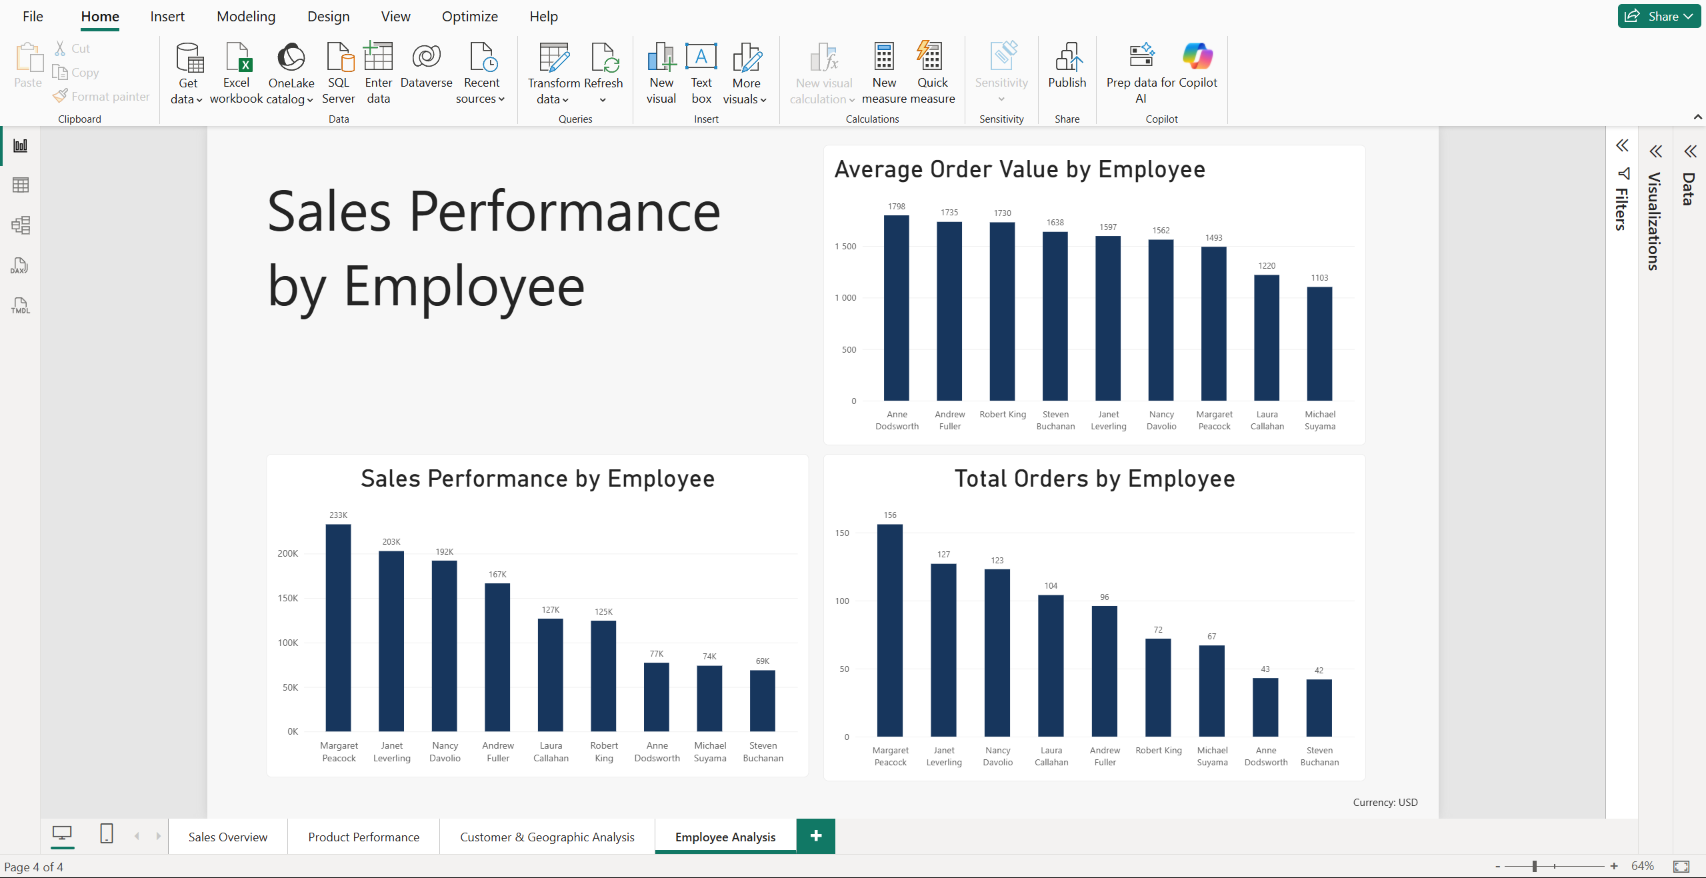

This screenshot's page, from the dashboard's own definition file:
{"tool":"powerbi","page":{"name":"Employee Analysis","canvas":[1920,1080],"ordinal":3},"visuals":[{"type":"clusteredColumnChart","title":"Sales Performance by Employee","fields":{"Category":["public employees.employeeName"],"Y":["public order_details.Total Revenue"]},"box":[92,512,846,504],"z":0},{"type":"textbox","box":[92,68,728,376],"z":1000},{"type":"clusteredColumnChart","title":"Total Orders by Employee","fields":{"Category":["public employees.employeeName"],"Y":["public orders.Total Orders"]},"box":[960,512,846,510],"z":2000},{"type":"clusteredColumnChart","title":"Average Order Value by Employee","fields":{"Category":["public employees.employeeName"],"Y":["public orders.Average Order Value"]},"box":[960,30,846,468],"z":3000},{"type":"textbox","box":[1786.8,1042.9,133.8,36.5],"z":4000}]}

Visuals, with their boxes on the page's 1920x1080 design canvas (x1, y1, x2, y2). These are canvas units, not pixel positions in the 1706x878 screenshot, which may show the page scaled, cropped or inside an application window:
"Sales Performance by Employee" clusteredColumnChart: Rect(92, 512, 938, 1016)
textbox: Rect(92, 68, 820, 444)
"Total Orders by Employee" clusteredColumnChart: Rect(960, 512, 1806, 1022)
"Average Order Value by Employee" clusteredColumnChart: Rect(960, 30, 1806, 498)
textbox: Rect(1787, 1043, 1921, 1079)
